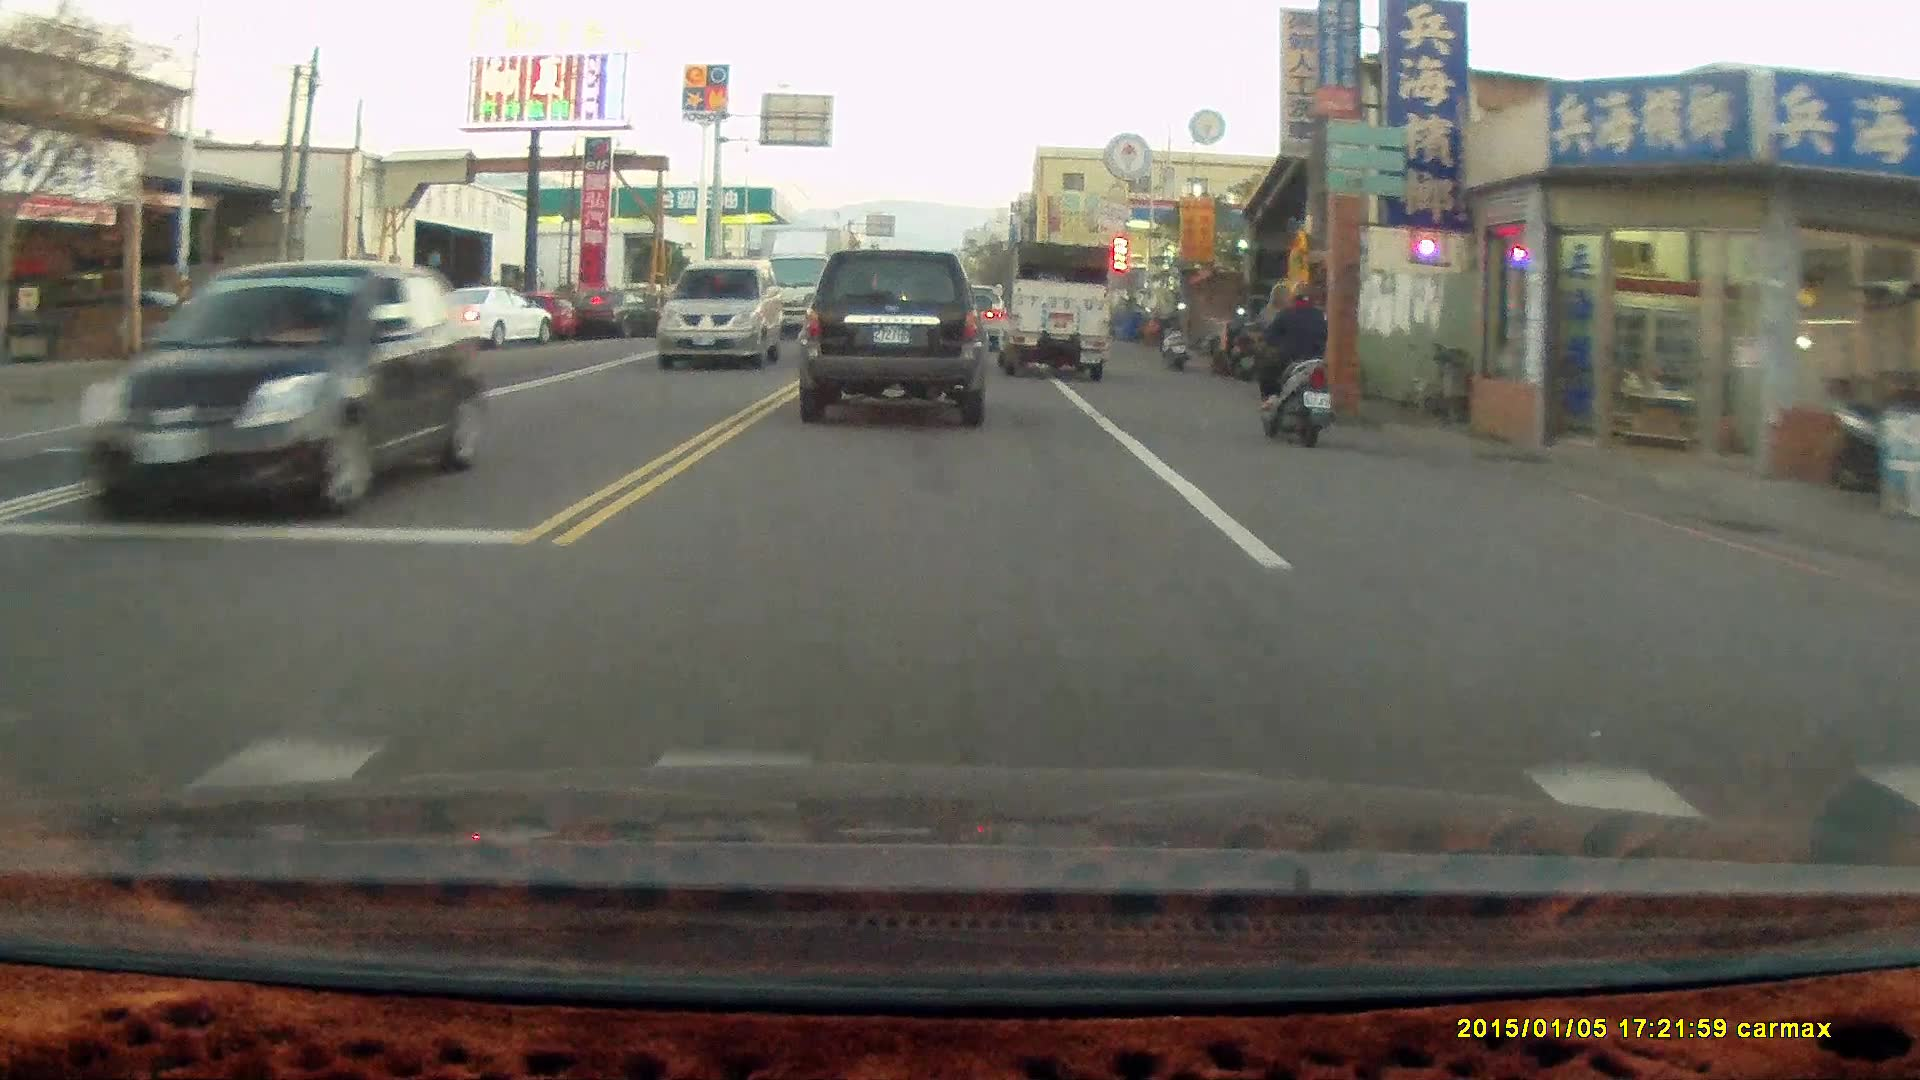rider: (1245, 279, 1338, 447)
vehicle: (72, 257, 487, 521), (798, 248, 992, 427), (994, 234, 1113, 378), (662, 260, 791, 370), (422, 283, 558, 358)
